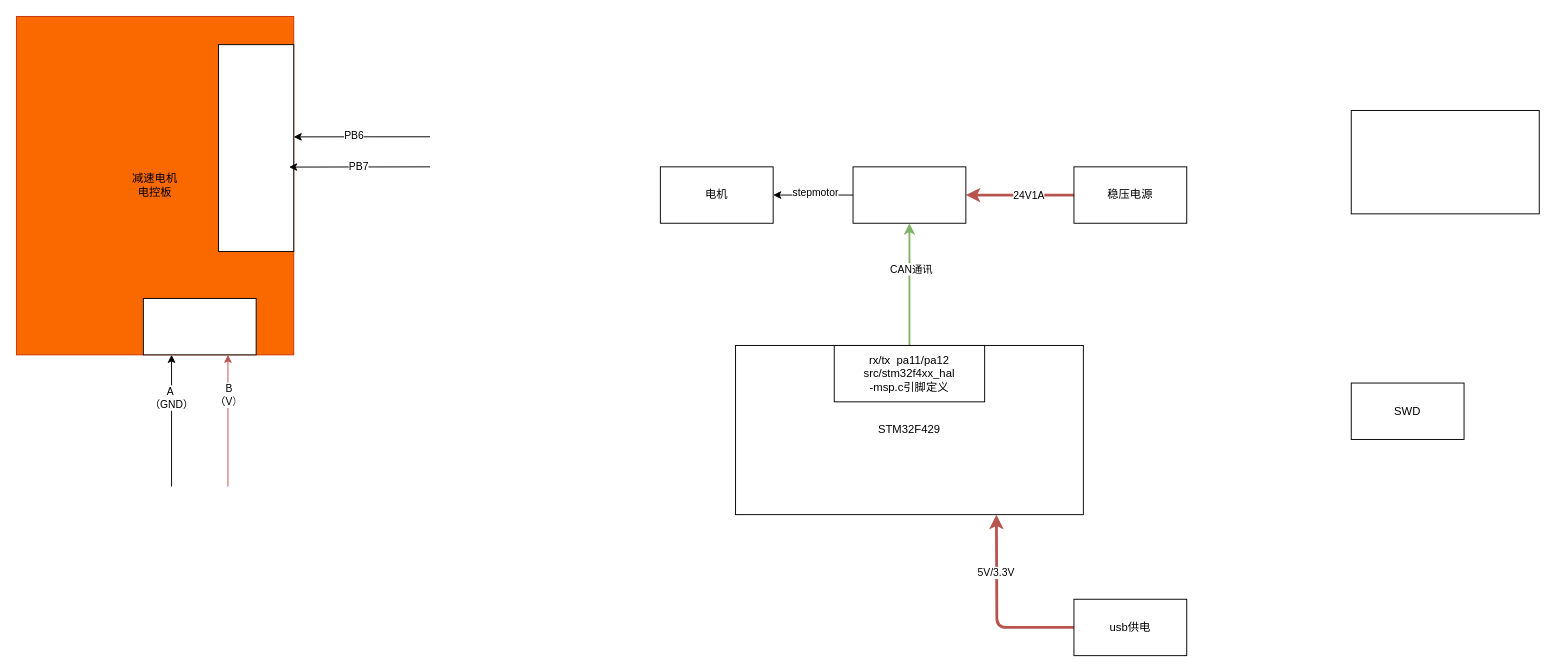
The diagram is 1556 pixels wide and 672 high, and some of its shapes have lost their labels. Each missing label, with the centre of its shape:
"1 V DC3-5v 2 PWMx 3 INAx in1 4 INBx in2 5 GND" belongs at (x=256, y=147).
"motorA" belongs at (x=199, y=326).
"烧录器daplink参数配置 adapter:DAPLink CMSIS-DAP 5MHz" belongs at (x=1444, y=162).
"电控板" belongs at (x=909, y=194).
